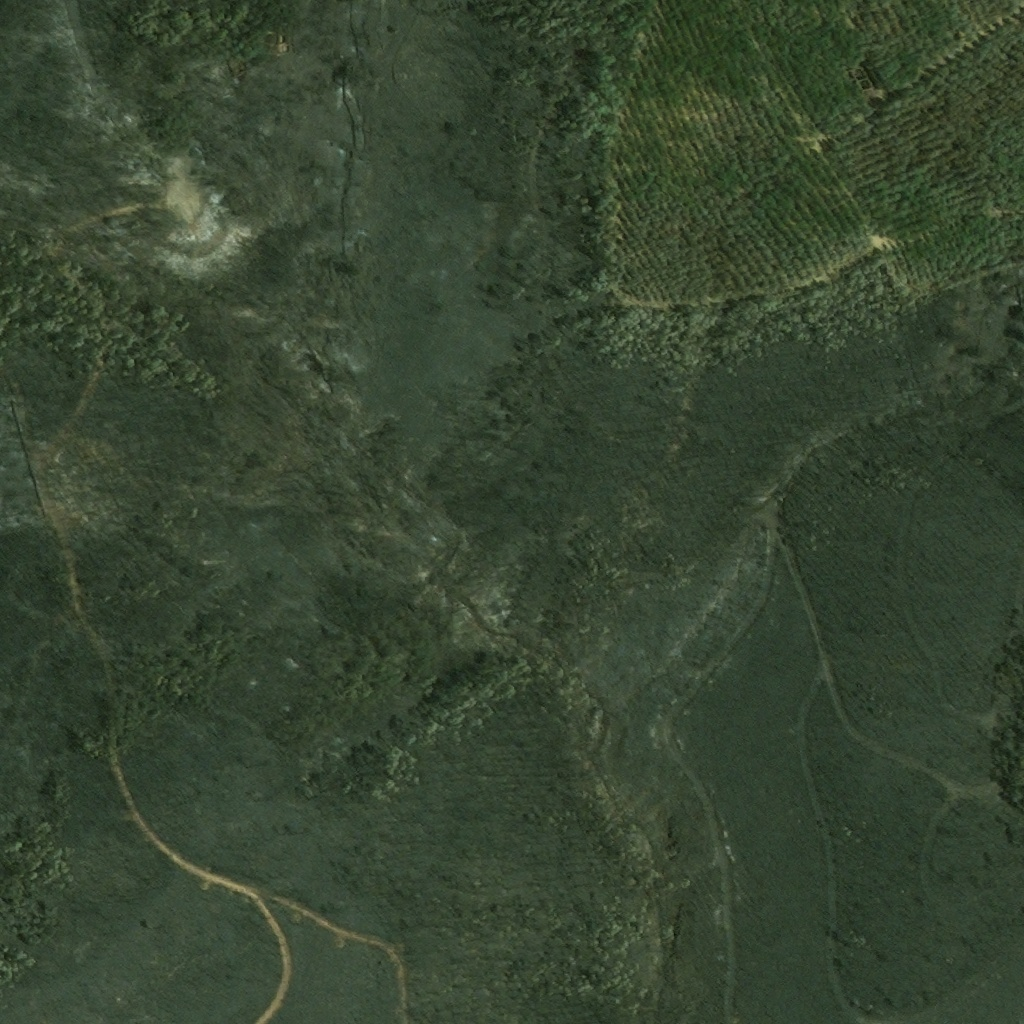3 destroyed: (139, 154, 198, 225)
